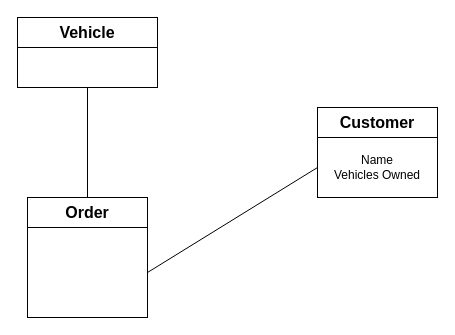
Image size: 455x335. Some labels were removed from this diagram. Here are the shapes that lost their labels. From the top down, the box of each, then its label:
(16, 46, 158, 88): Type Number in Stock
(26, 226, 148, 318): Customer Vehicle Ordered Created Date Number Ordered Paid
